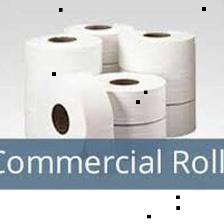tissue: (24, 68, 116, 138), (118, 27, 199, 106), (88, 71, 168, 128), (26, 31, 104, 79), (60, 20, 138, 65), (160, 97, 199, 138)
